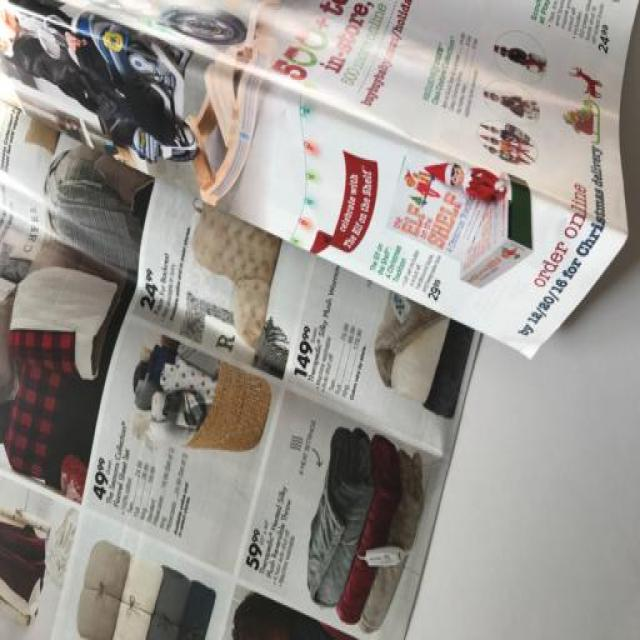paper: (1, 10, 637, 630)
